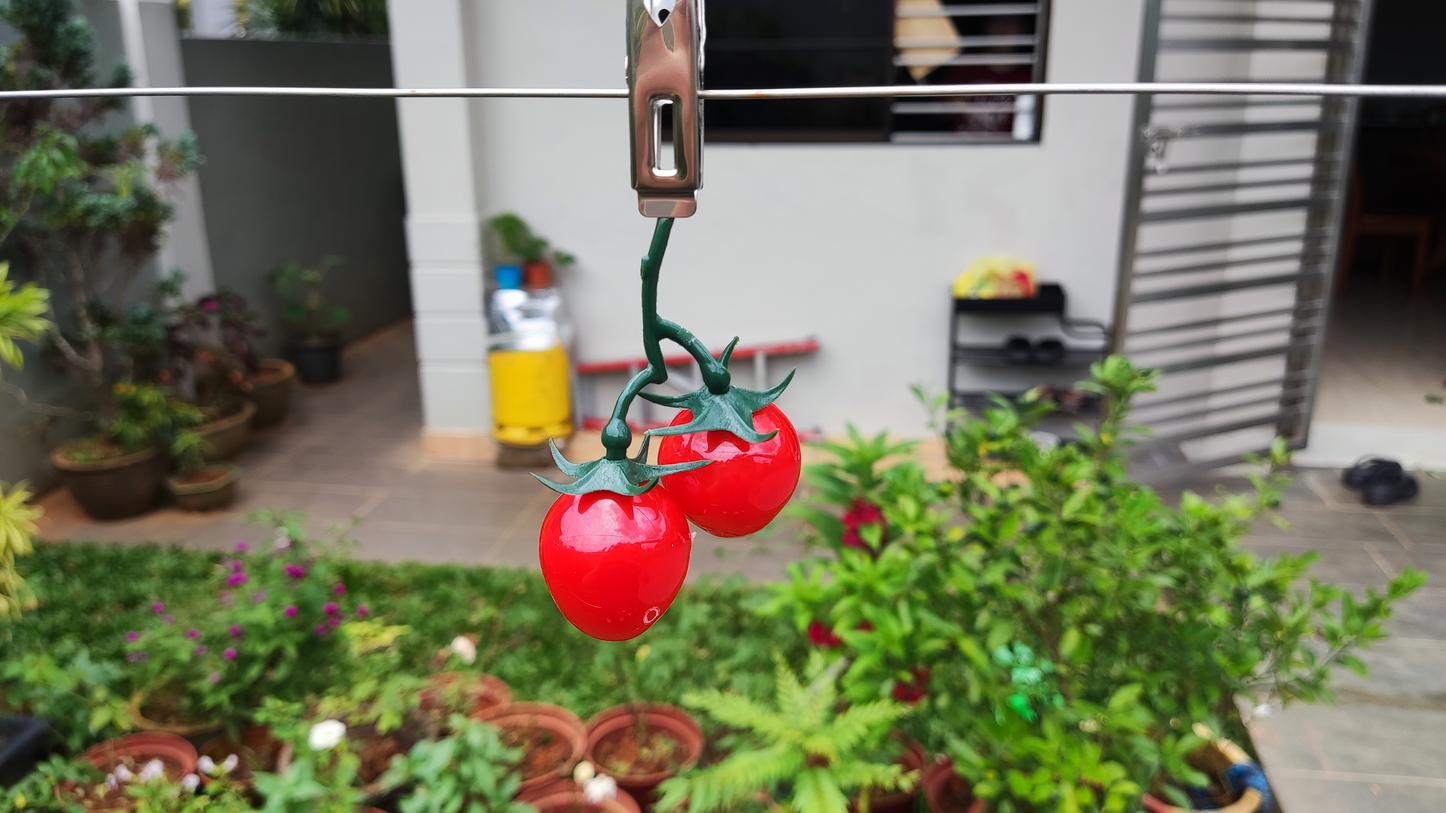peduncle: (640, 218, 675, 312)
strawberry: (539, 483, 691, 640), (658, 403, 801, 537)
